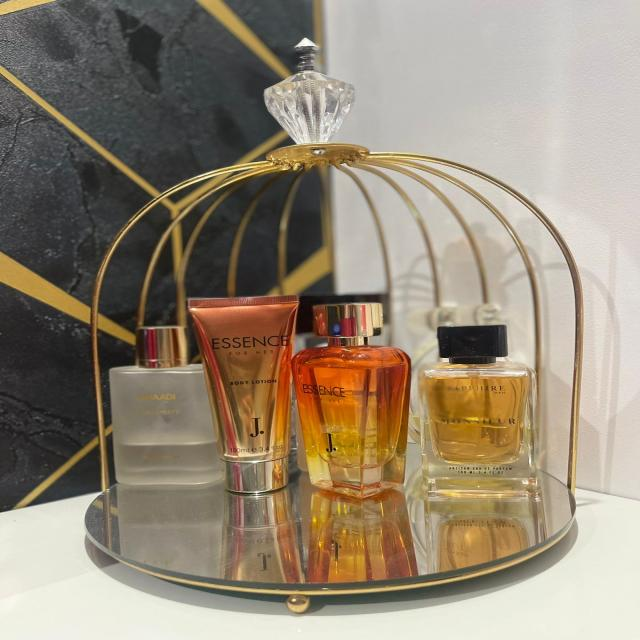lotion: (182, 288, 310, 495)
perfume: (414, 314, 555, 501), (294, 299, 421, 500), (99, 318, 230, 481)
